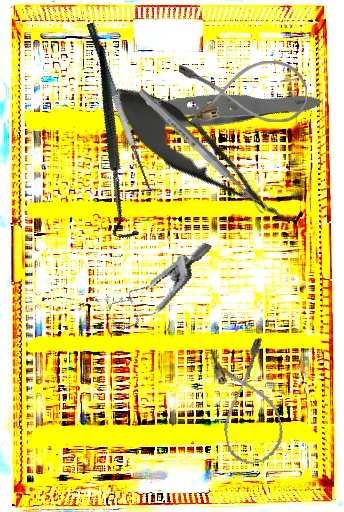Cannula: (208, 337, 288, 468), (179, 61, 307, 122)
Hook Surgical: (34, 44, 201, 245)
Micro Scissor: (99, 70, 305, 245)
Spatula Surgical: (84, 17, 165, 196)
Speculum: (96, 216, 212, 351)
Surgical Spoon: (136, 86, 269, 216)
Tissue Forceps: (95, 7, 324, 201)
